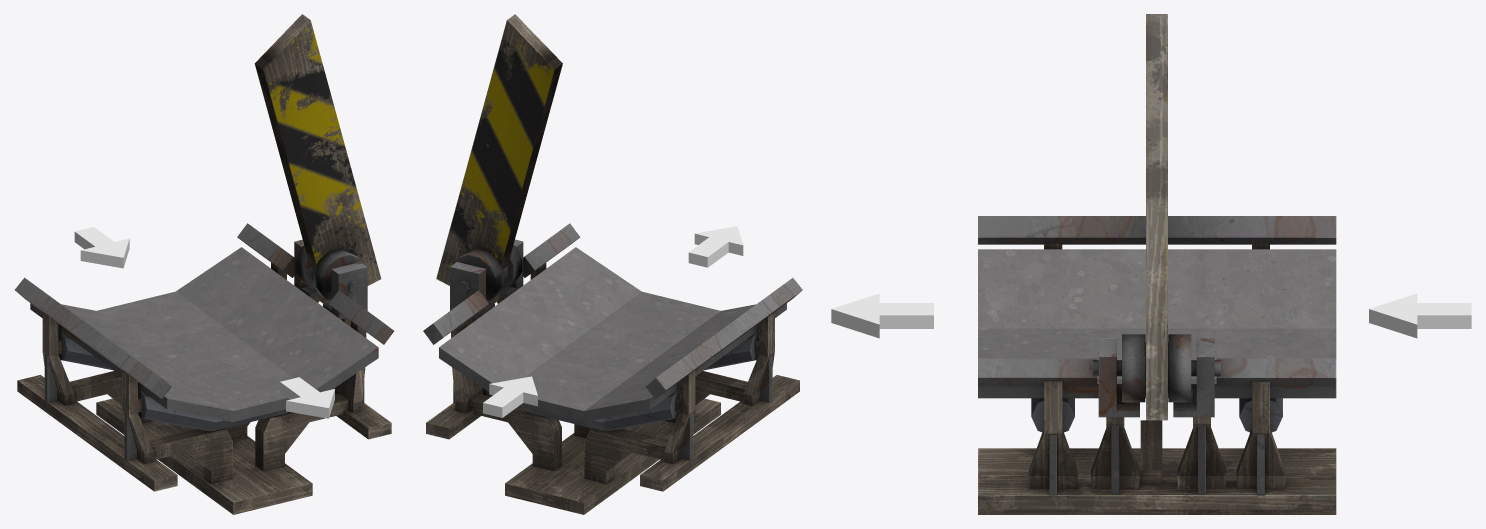
File: ConveyorBlocker.glb
The picture shows the model from 3 angles, left to right: view 1: azimuth 30°, elevation 25°; view 2: azimuth 150°, elevation 25°; view 3: azimuth 270°, elevation 25°; orthographic projection. The views are drawn at different scales.
Parts seen in each view (by area): view 1: ConveyorBlocker, BlockerArm, ghostarrow (1), ghostarrow; view 2: ConveyorBlocker, BlockerArm, ghostarrow, ghostarrow (1); view 3: ConveyorBlocker, BlockerArm, ghostarrow (1), ghostarrow.
Part boxes in pixels (bbox=[...]): ConveyorBlocker: bbox=[15, 223, 393, 514]; BlockerArm: bbox=[254, 14, 381, 303]; ghostarrow (1): bbox=[74, 227, 129, 268]; ghostarrow: bbox=[280, 377, 334, 418]; ConveyorBlocker: bbox=[423, 223, 802, 514]; BlockerArm: bbox=[436, 14, 562, 303]; ghostarrow: bbox=[688, 226, 743, 267]; ghostarrow (1): bbox=[483, 376, 537, 417]; ConveyorBlocker: bbox=[978, 216, 1336, 514]; BlockerArm: bbox=[1092, 14, 1220, 420]; ghostarrow (1): bbox=[1369, 293, 1471, 338]; ghostarrow: bbox=[831, 293, 933, 338].
Bounding box in the file's own units: 1.24 × 1.67 × 1.79.
Materials: 3 (2 with a texture image).
